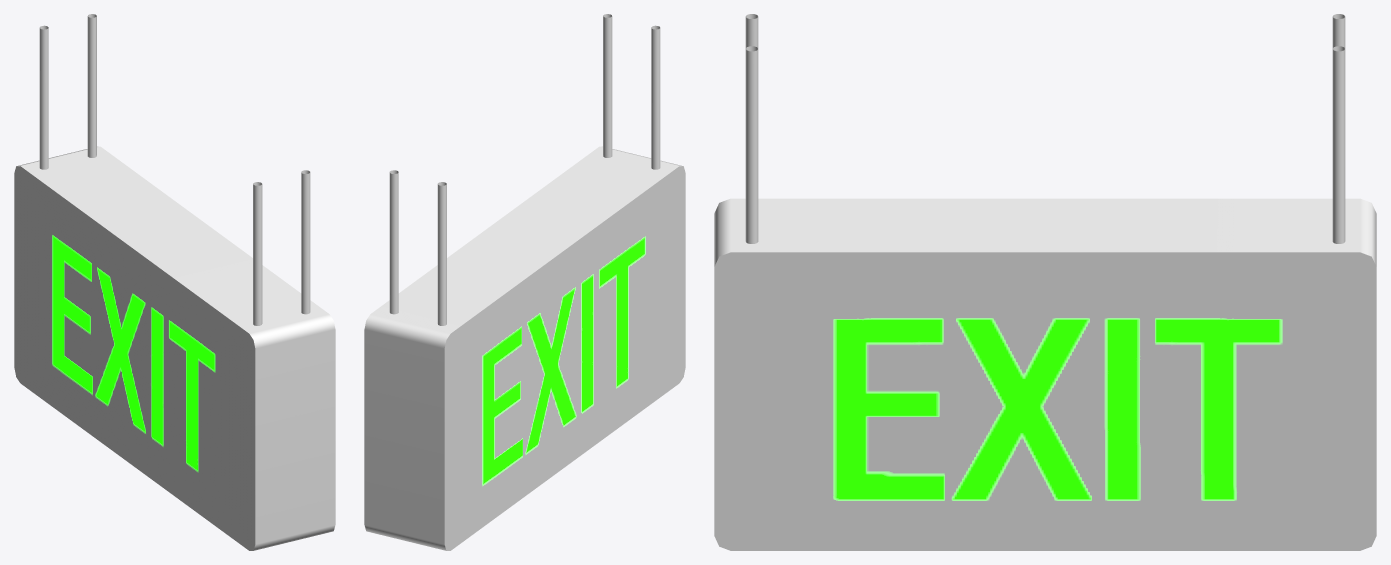
File: exit.gltf
3 views of the same model, side by side, from view 1: azimuth 30°, elevation 25°; view 2: azimuth 150°, elevation 25°; view 3: azimuth 270°, elevation 25° (orthographic). The views are drawn at different scales.
Visible parts, largest first — view 1: Sign, Cables; view 2: Sign, Cables; view 3: Sign, Cables.
Boxes of the visible parts, <box> form: Sign: <box>14,146,335,550</box>; Cables: <box>39,14,310,325</box>; Sign: <box>364,146,685,550</box>; Cables: <box>389,14,660,325</box>; Sign: <box>714,198,1376,550</box>; Cables: <box>745,14,1345,243</box>.
Size of the model in its own units: 1 by 4.26 by 5.2.
1 material, 1 textured.
